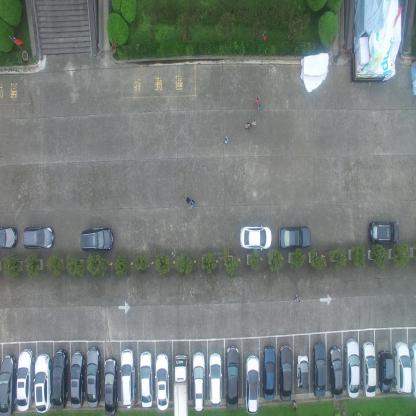car: (16, 347, 34, 411), (34, 353, 52, 414), (52, 347, 68, 412), (0, 352, 16, 415), (172, 353, 188, 415), (224, 345, 239, 411), (344, 338, 360, 398), (244, 355, 260, 415), (86, 345, 101, 408), (120, 349, 136, 408), (70, 350, 86, 409), (394, 341, 411, 394), (155, 352, 170, 411), (361, 340, 376, 398), (103, 358, 118, 416), (239, 224, 272, 250), (328, 344, 343, 400), (311, 341, 326, 397), (278, 342, 292, 402), (192, 352, 206, 412), (366, 220, 398, 246), (21, 225, 54, 250), (277, 226, 311, 250), (139, 350, 153, 408), (80, 227, 114, 250), (378, 348, 394, 394), (262, 344, 275, 400), (209, 352, 222, 406), (296, 353, 309, 390), (0, 224, 18, 250), (410, 340, 416, 400)
